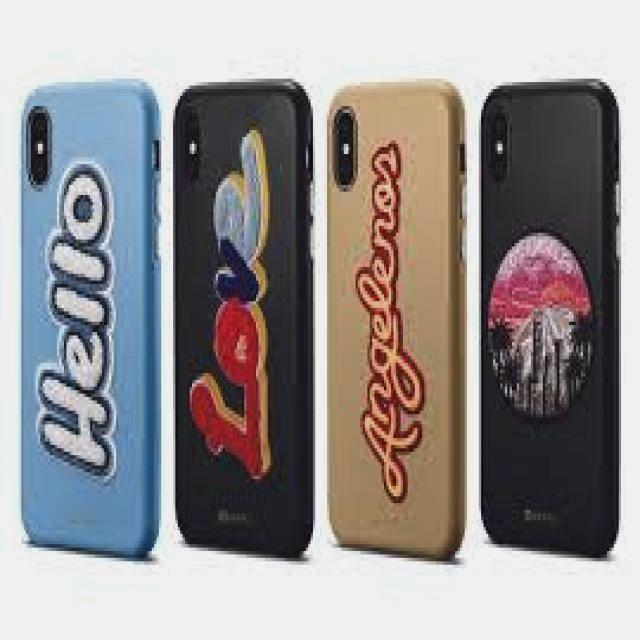phone: (170, 76, 316, 559), (324, 75, 466, 562), (478, 80, 620, 559), (19, 78, 159, 559)
